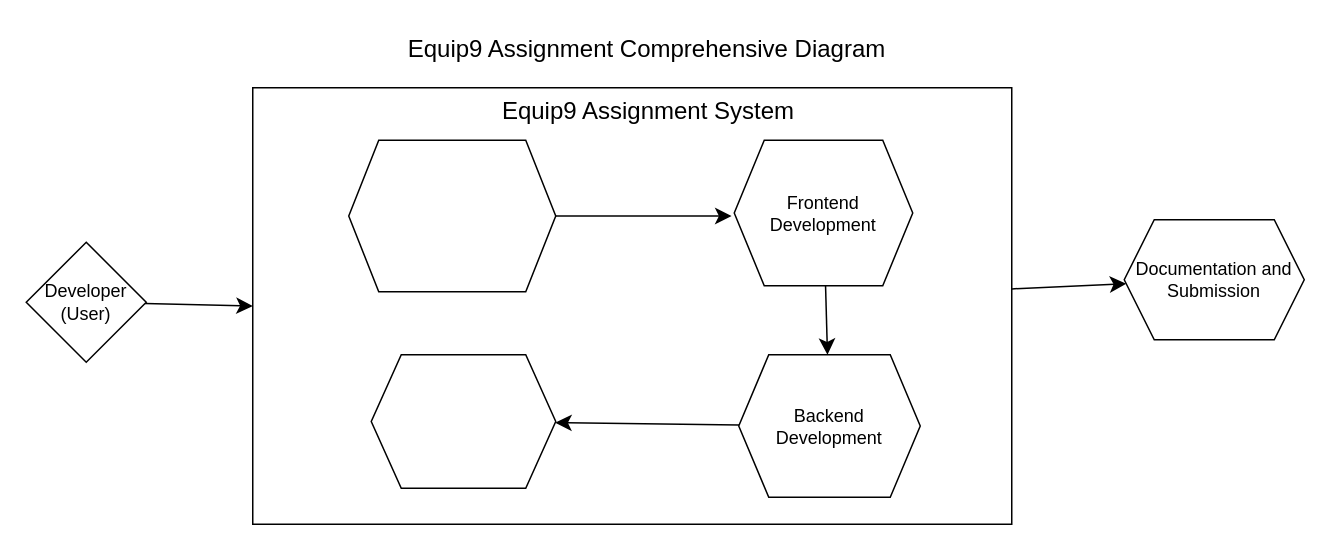
This 1331x551 diagram has some shape labels left out. Each missing label, with the centre of its shape:
Database Setup: the point at 463,420
GitHub repository management: the point at 451,215
